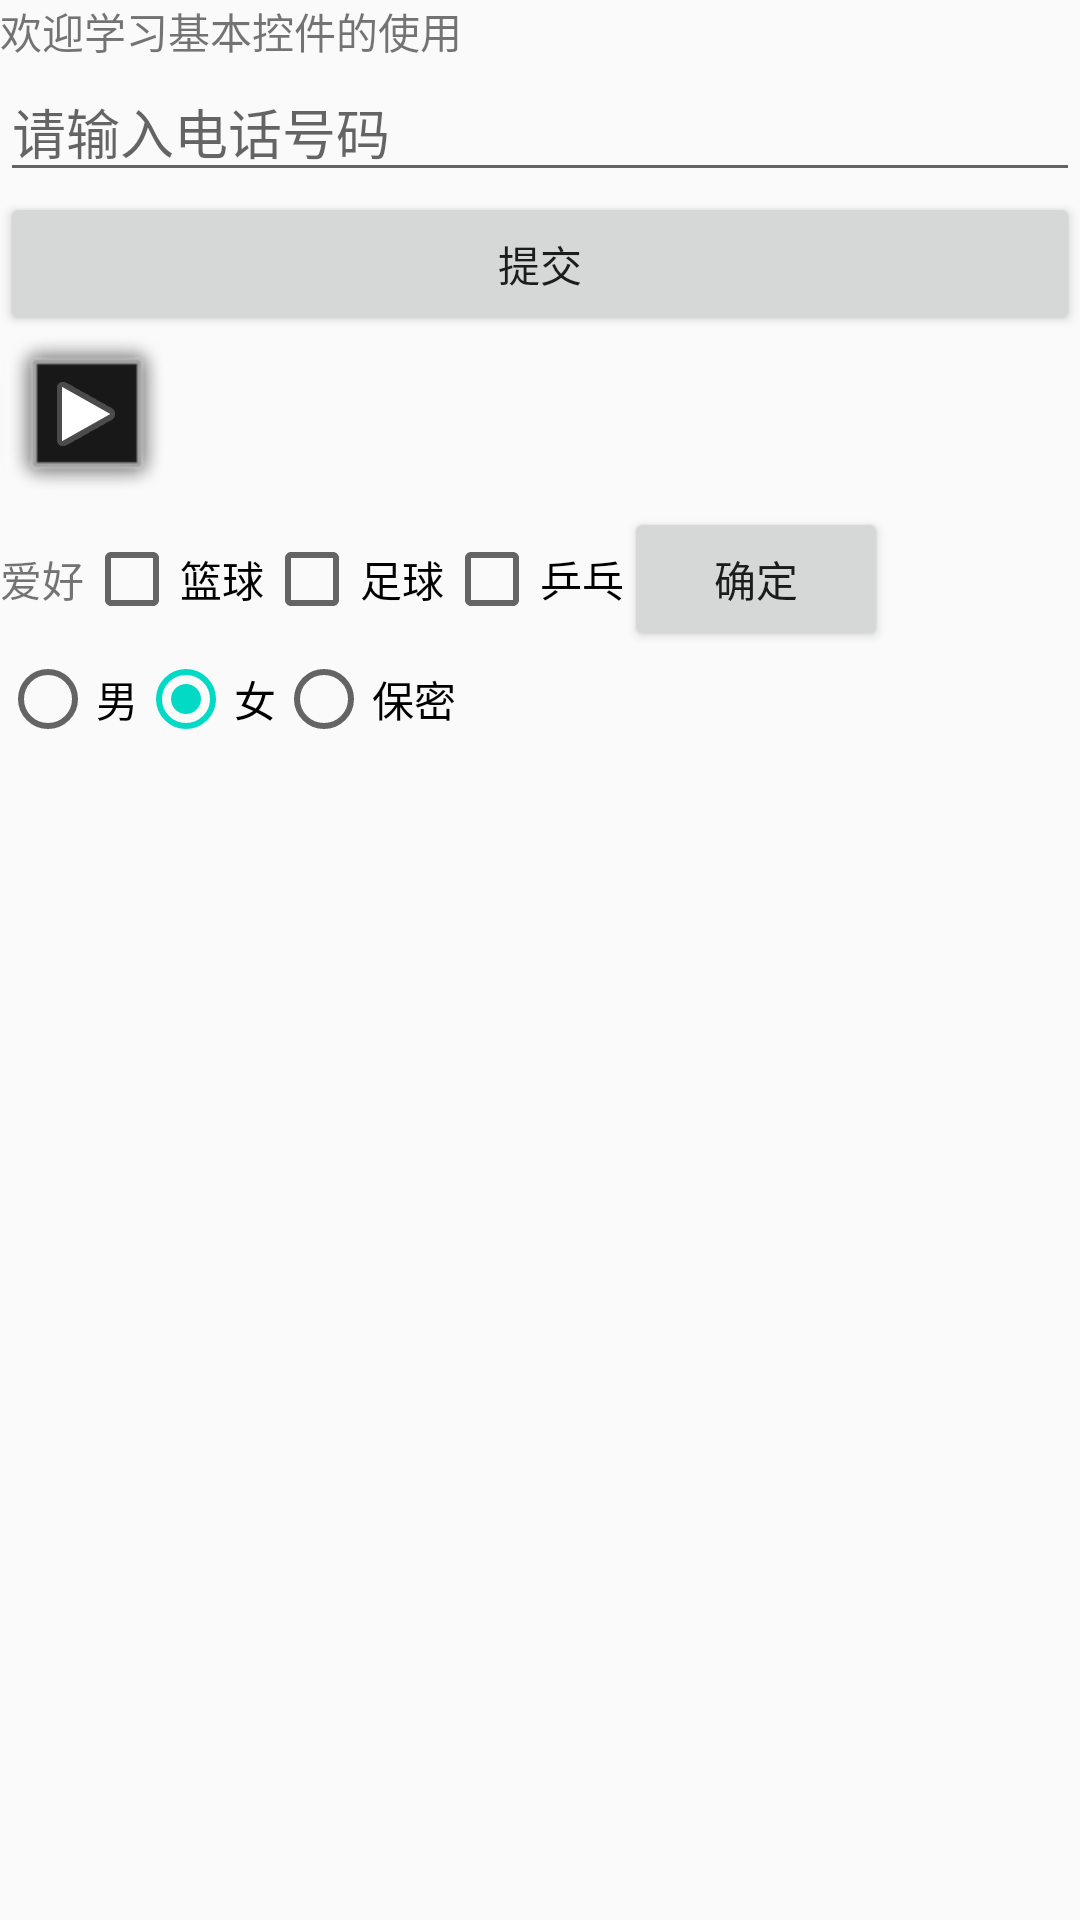

Icon bounding boxes for this 1080px x 1920px phone screenshot, format bbox=(x1, y1, x2, y2):
play: bbox=(19, 346, 155, 481)
